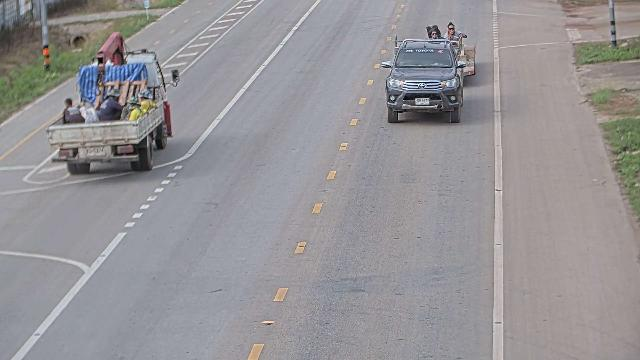pickup-truck: (380, 33, 469, 124)
truck: (46, 39, 176, 174)
